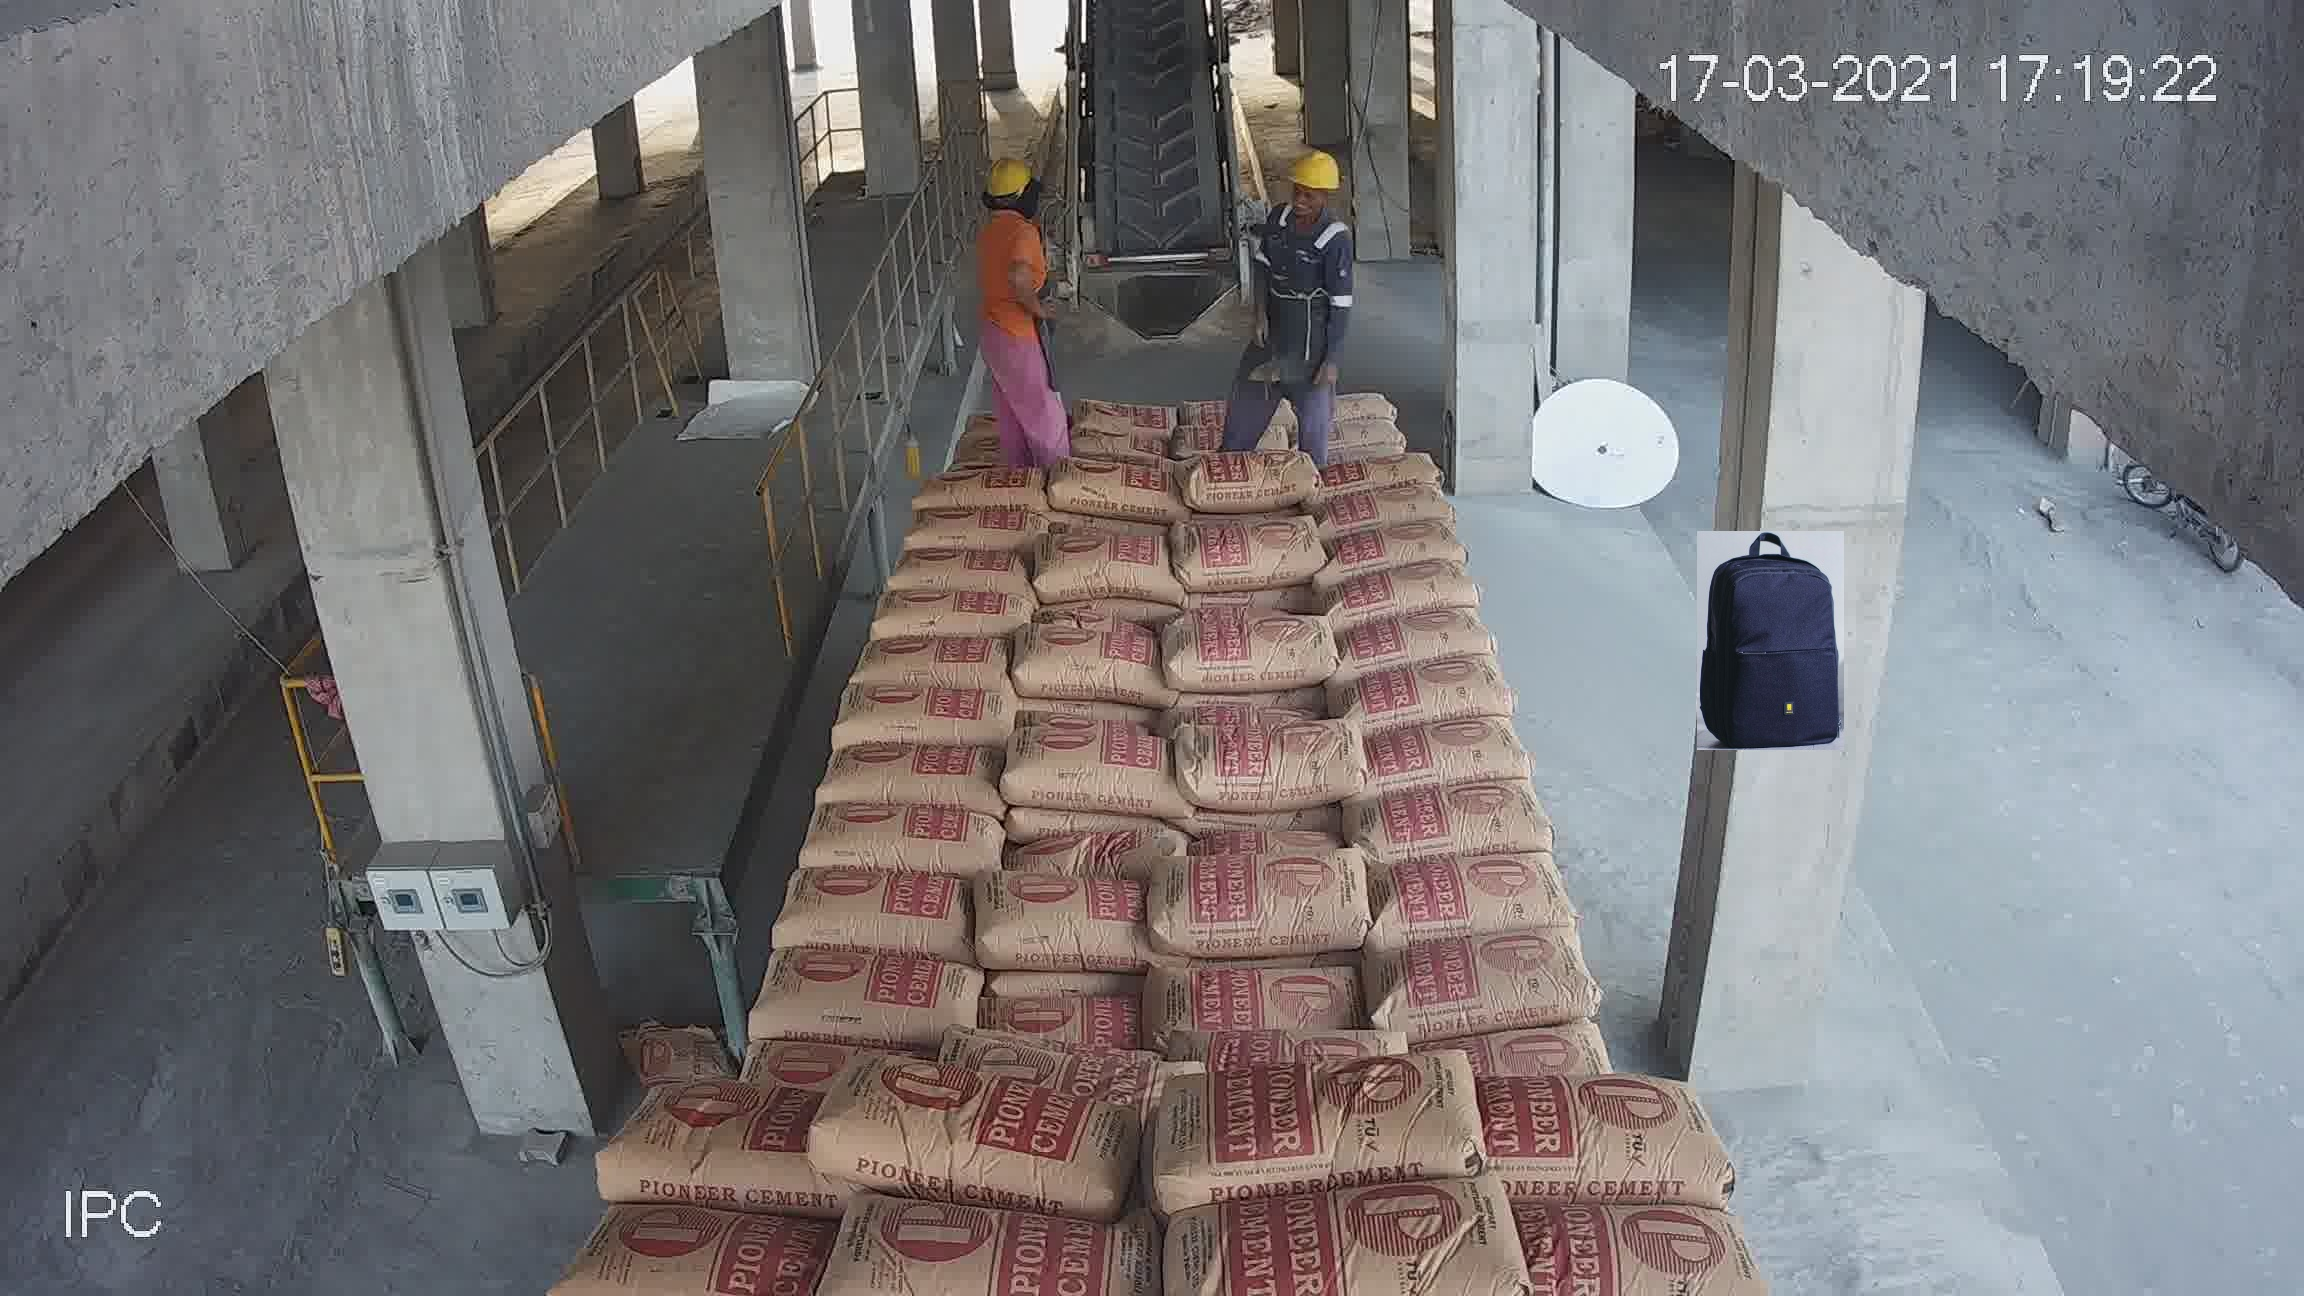bag_h: (1146, 1041, 1478, 1212), (809, 1063, 1150, 1206), (1160, 1166, 1533, 1285), (1472, 1060, 1730, 1211), (1146, 821, 1372, 972), (604, 1067, 813, 1218), (1362, 919, 1608, 1038), (820, 1215, 1158, 1296), (725, 956, 992, 1044), (538, 1215, 831, 1293), (1508, 1192, 1756, 1279), (945, 1013, 1220, 1086), (1005, 714, 1176, 831), (821, 665, 1040, 755), (976, 859, 1152, 968), (1347, 704, 1541, 802), (1359, 858, 1600, 937), (1187, 699, 1367, 804), (1351, 639, 1525, 747), (775, 858, 983, 948), (794, 750, 1014, 832), (1154, 940, 1358, 1027), (1378, 786, 1560, 880), (1320, 606, 1510, 688), (837, 620, 1036, 696), (1204, 1013, 1416, 1081), (782, 807, 1019, 867), (1339, 543, 1487, 631), (1011, 617, 1161, 701), (972, 964, 1146, 1035), (1468, 1002, 1622, 1082), (999, 812, 1195, 873), (1032, 524, 1165, 609), (1161, 612, 1328, 679), (873, 530, 1032, 598), (1180, 440, 1317, 519), (1173, 514, 1313, 589), (891, 497, 1049, 562), (1339, 514, 1470, 589), (869, 593, 1051, 646), (1051, 451, 1185, 519), (1320, 481, 1461, 533), (910, 460, 1040, 513), (1313, 435, 1438, 484), (1070, 385, 1176, 438), (1078, 411, 1188, 454)
belt: (1063, 28, 1244, 301)
